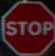Stop: (0, 7, 54, 48)
